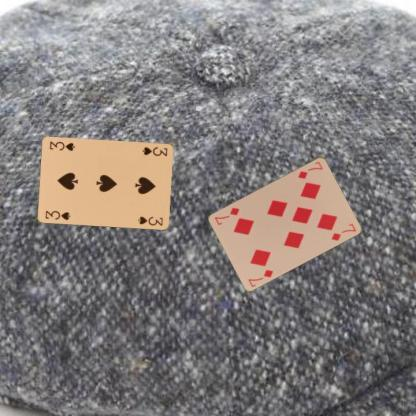3s: (43, 208, 72, 221), (140, 145, 169, 157)
7d: (295, 158, 324, 180), (245, 267, 274, 288)
